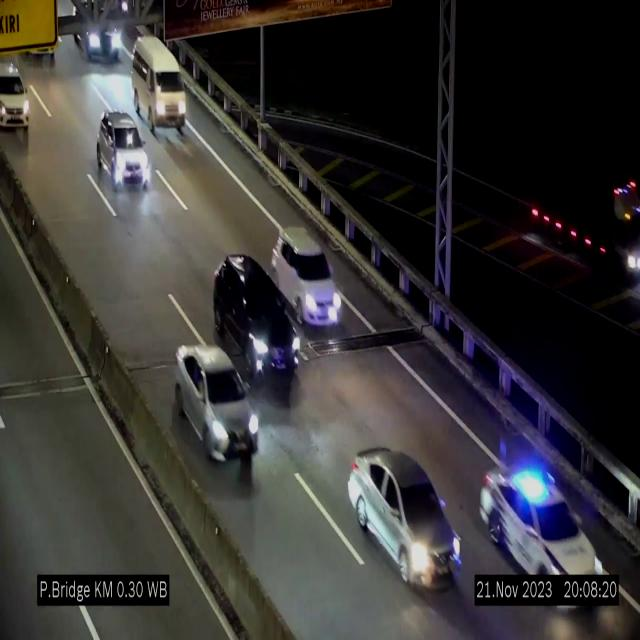Car: (480, 435, 606, 600), (348, 449, 462, 586), (209, 245, 299, 393), (174, 346, 260, 456), (274, 227, 344, 328), (130, 34, 188, 140), (100, 109, 150, 204), (0, 55, 40, 146), (72, 0, 124, 70)
Truck: (524, 142, 640, 302)
